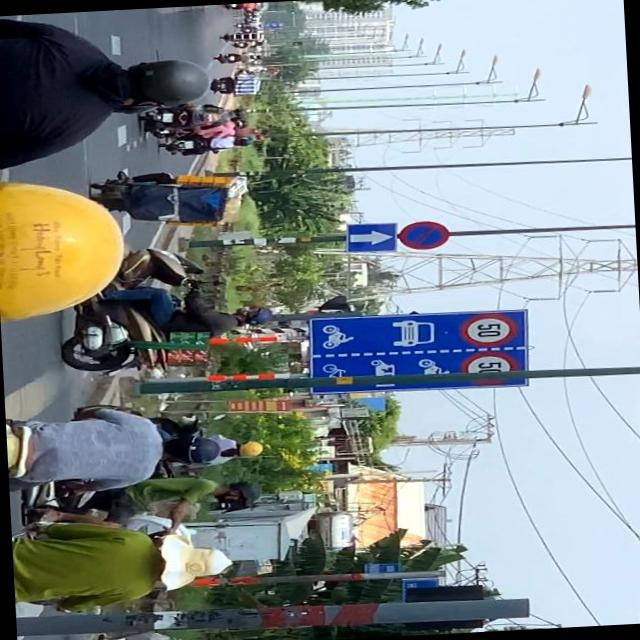I-407a: (346, 224, 396, 252)
P-130: (396, 219, 449, 252)
